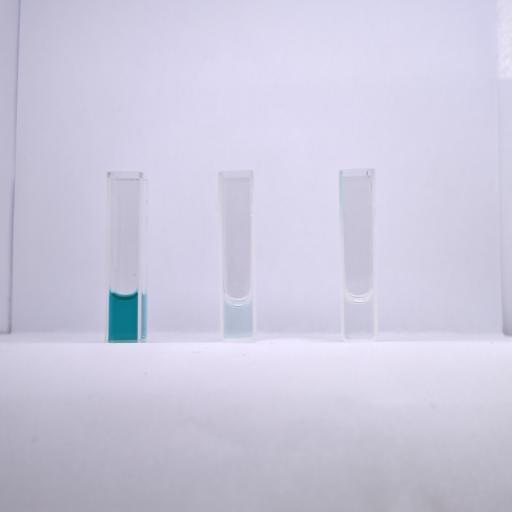cuvette: (338, 167, 378, 342), (217, 169, 257, 343), (105, 169, 144, 343)
liquid: (108, 289, 138, 339), (344, 293, 373, 338), (224, 296, 252, 337)
